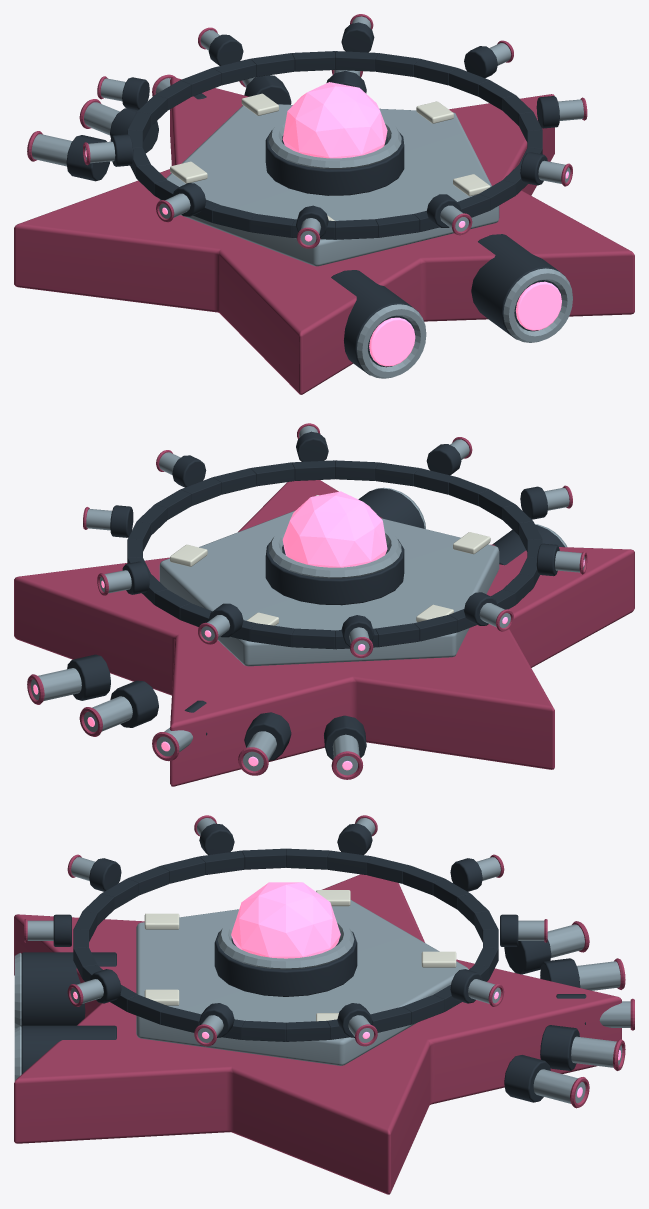
File: boss_sentinela.glb
3 renders of one model, top to bottom at view 1: azimuth 30°, elevation 25°; view 2: azimuth 150°, elevation 25°; view 3: azimuth 270°, elevation 25°, orthographic. The views are drawn at different scales.
Parts seen in each view (by area): view 1: boss | SENTINELA | armor, boss | Graphite chassis, boss | Titanium, boss | SENTINELA | energy, ring_rotor.002 | Graphite chassis, ring_rotor.002 | Titanium, boss | Ivory identification, ring_rotor.002 | SENTINELA | armor; view 2: boss | SENTINELA | armor, boss | Titanium, boss | Graphite chassis, ring_rotor.002 | Graphite chassis, boss | SENTINELA | energy, ring_rotor.002 | Titanium, boss | Ivory identification, ring_rotor.002 | SENTINELA | armor; view 3: boss | SENTINELA | armor, boss | Graphite chassis, boss | Titanium, ring_rotor.002 | Graphite chassis, boss | SENTINELA | energy, ring_rotor.002 | Titanium, boss | Ivory identification, ring_rotor.002 | SENTINELA | armor.
Boxes of the visible parts, x1=… form: boss | SENTINELA | armor: x1=14, y1=70, x2=634, y2=394; boss | Graphite chassis: x1=66, y1=51, x2=564, y2=375; boss | Titanium: x1=31, y1=70, x2=572, y2=378; boss | SENTINELA | energy: x1=282, y1=82, x2=561, y2=366; ring_rotor.002 | Graphite chassis: x1=110, y1=22, x2=559, y2=237; ring_rotor.002 | Titanium: x1=85, y1=16, x2=583, y2=245; boss | Ivory identification: x1=170, y1=93, x2=490, y2=220; ring_rotor.002 | SENTINELA | armor: x1=83, y1=14, x2=587, y2=248; boss | SENTINELA | armor: x1=14, y1=480, x2=634, y2=786; boss | Titanium: x1=31, y1=487, x2=567, y2=775; boss | Graphite chassis: x1=67, y1=460, x2=564, y2=760; ring_rotor.002 | Graphite chassis: x1=110, y1=431, x2=559, y2=646; boss | SENTINELA | energy: x1=33, y1=491, x2=387, y2=770; ring_rotor.002 | Titanium: x1=86, y1=426, x2=585, y2=654; boss | Ivory identification: x1=170, y1=495, x2=490, y2=625; ring_rotor.002 | SENTINELA | armor: x1=83, y1=423, x2=587, y2=657; boss | SENTINELA | armor: x1=14, y1=874, x2=634, y2=1194; boss | Graphite chassis: x1=21, y1=848, x2=586, y2=1102; boss | Titanium: x1=14, y1=900, x2=630, y2=1103; ring_rotor.002 | Graphite chassis: x1=53, y1=823, x2=518, y2=1037; boss | SENTINELA | energy: x1=231, y1=882, x2=621, y2=1097; ring_rotor.002 | Titanium: x1=27, y1=818, x2=544, y2=1042; boss | Ivory identification: x1=144, y1=890, x2=456, y2=1021; ring_rotor.002 | SENTINELA | armor: x1=24, y1=815, x2=547, y2=1046.
Bounding box in the file's own units: 2.21 × 0.7 × 2.15.
